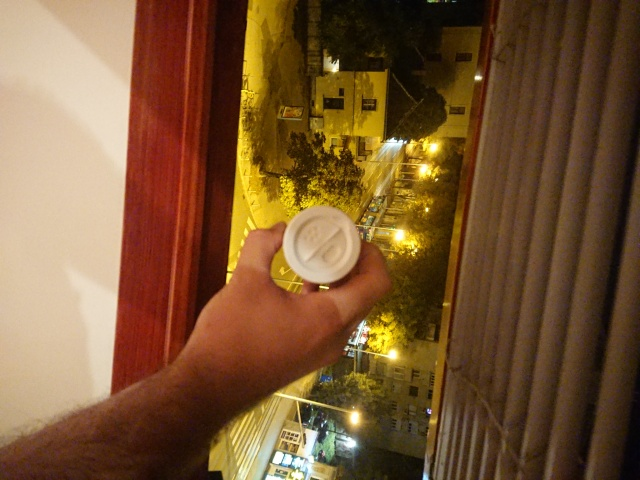Solana Pag Fine Sea Salt 250g: (279, 203, 365, 288)
